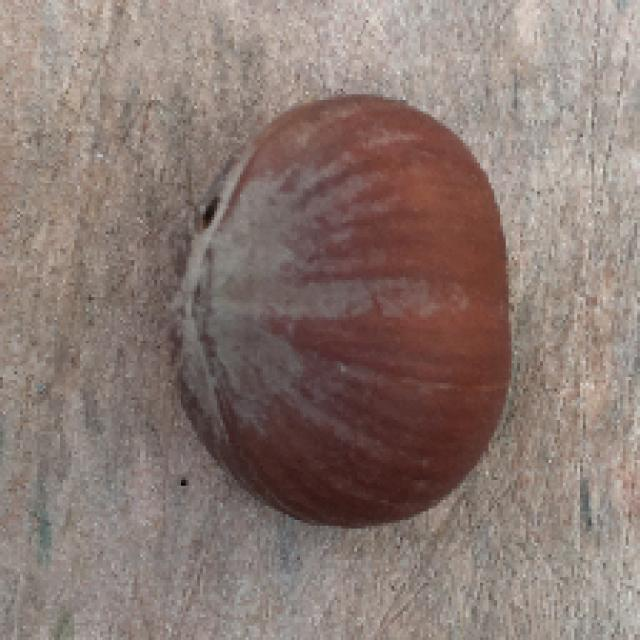qualityHazelnut: (167, 95, 510, 526)
